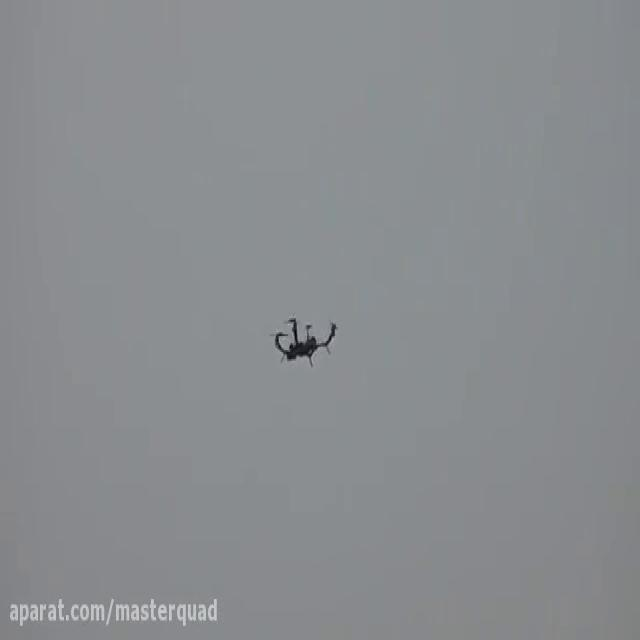drone: (264, 304, 342, 375)
